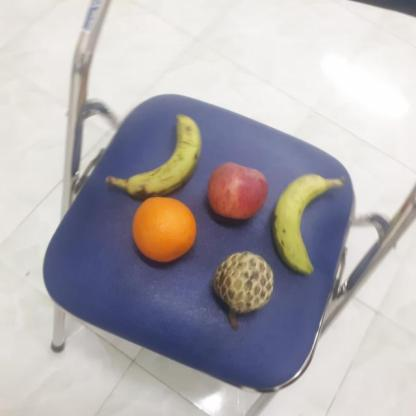annona: (211, 249, 279, 314)
apple: (206, 160, 270, 219)
banana: (121, 108, 208, 201), (270, 170, 331, 276)
orange: (129, 194, 197, 263)
